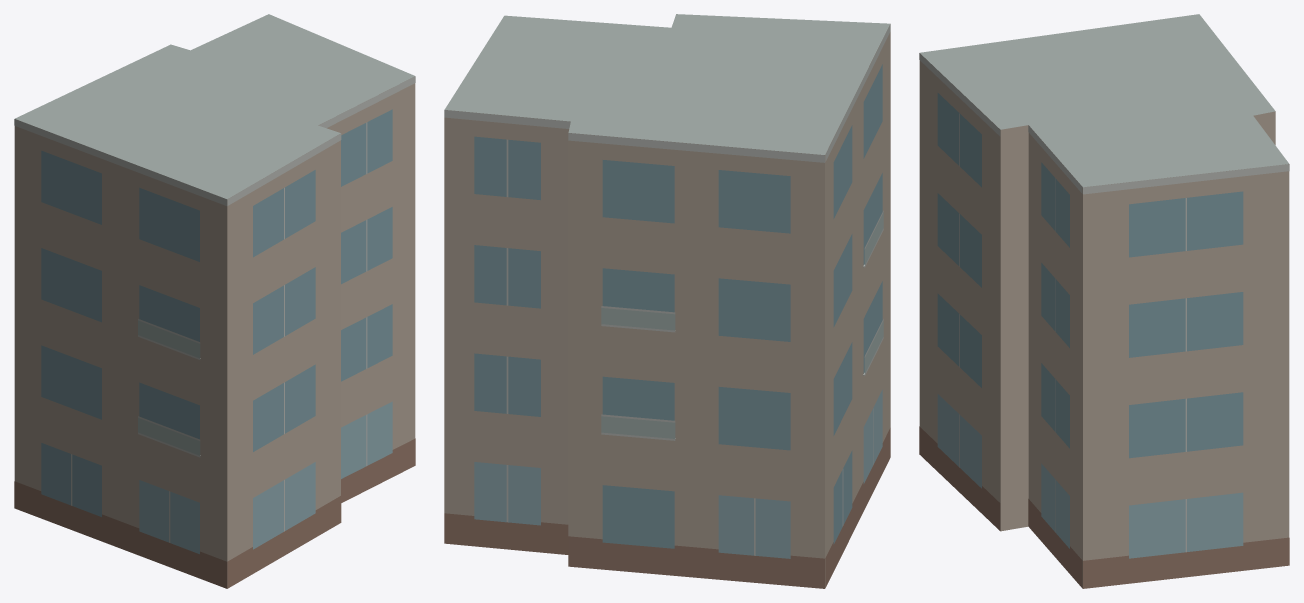
The model's file is survey-upis-32930953.glb.
3 views of the same model, side by side, from view 1: azimuth 30°, elevation 25°; view 2: azimuth 150°, elevation 25°; view 3: azimuth 270°, elevation 25° (orthographic). The views are drawn at different scales.
Parts seen in each view (by area): view 1: survey-upis-32930953.tmp; view 2: survey-upis-32930953.tmp; view 3: survey-upis-32930953.tmp.
Part boxes in pixels (box(x1,y1,x2,y2)): survey-upis-32930953.tmp: box(14, 14, 415, 588); survey-upis-32930953.tmp: box(444, 14, 890, 588); survey-upis-32930953.tmp: box(919, 14, 1289, 588).
Bounding box in the file's own units: 12.6 × 13.6 × 11.37.
